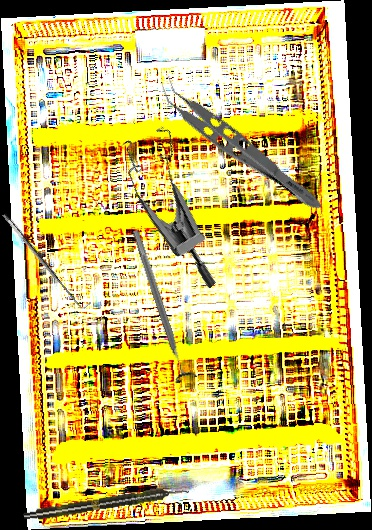Fixation Ring: (123, 226, 199, 385)
Handpiece: (22, 483, 190, 524)
Hook Surgical: (0, 206, 92, 314)
Speculum: (94, 114, 268, 290)
Tissue Forceps: (148, 72, 335, 217)
